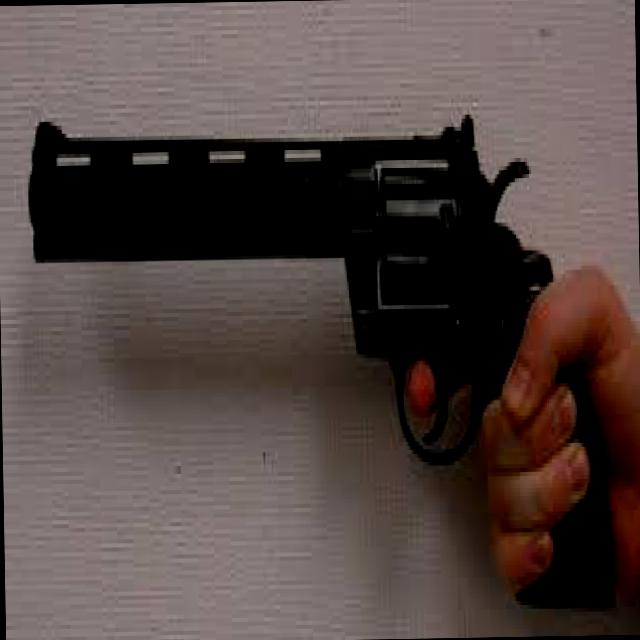handgun: (16, 96, 619, 608)
